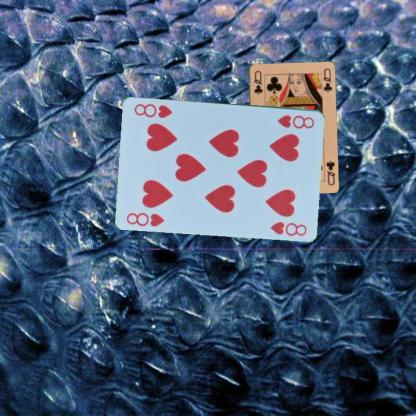8h: (124, 209, 166, 228), (275, 112, 315, 130)
Qc: (323, 158, 336, 186), (252, 68, 263, 95)
